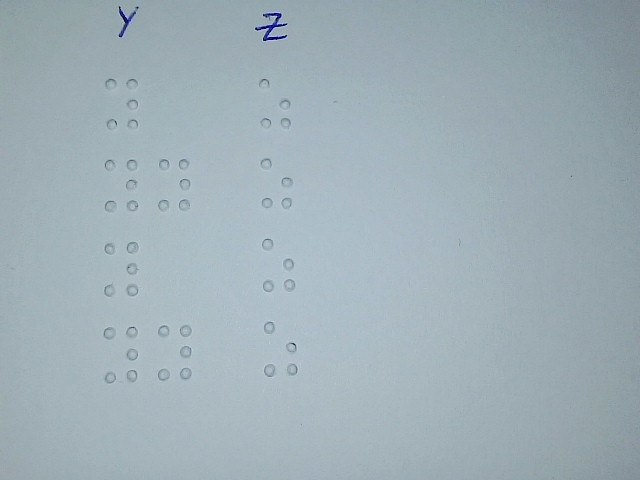Y: (103, 239, 139, 297), (103, 75, 140, 131), (155, 156, 192, 212), (157, 324, 194, 380)
Z: (262, 319, 298, 376), (257, 75, 293, 129), (259, 156, 295, 210), (260, 237, 296, 291)
